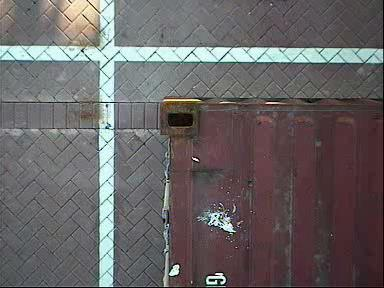groundmarker_2: (175, 145, 226, 217)
